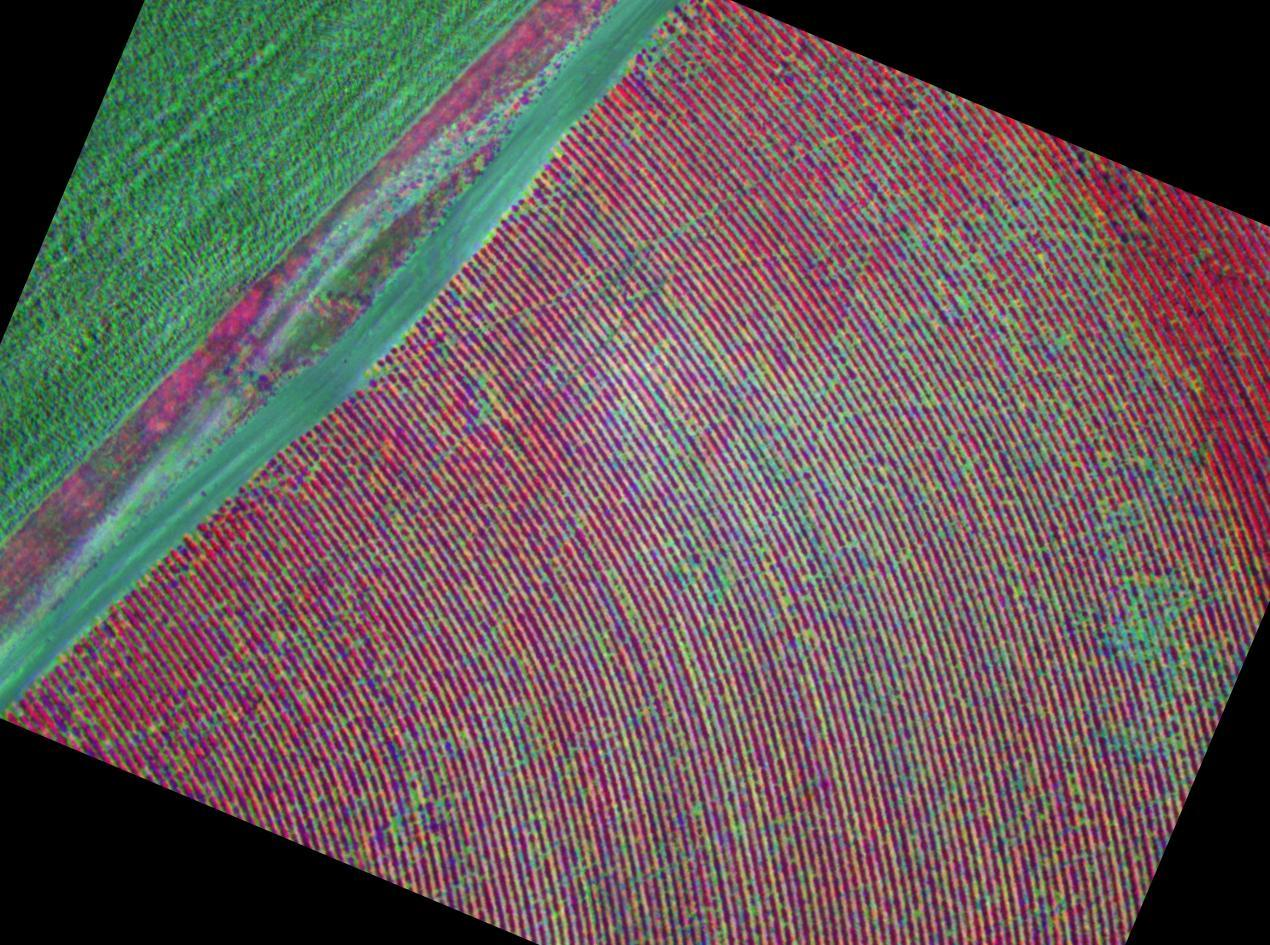dc: (961, 301, 968, 307), (693, 808, 698, 815), (466, 847, 471, 853), (1061, 338, 1066, 342), (1145, 460, 1149, 465), (1033, 189, 1037, 193), (1097, 504, 1101, 508), (669, 542, 673, 546), (607, 572, 611, 576), (299, 694, 303, 698), (784, 599, 788, 602), (809, 632, 812, 636)
